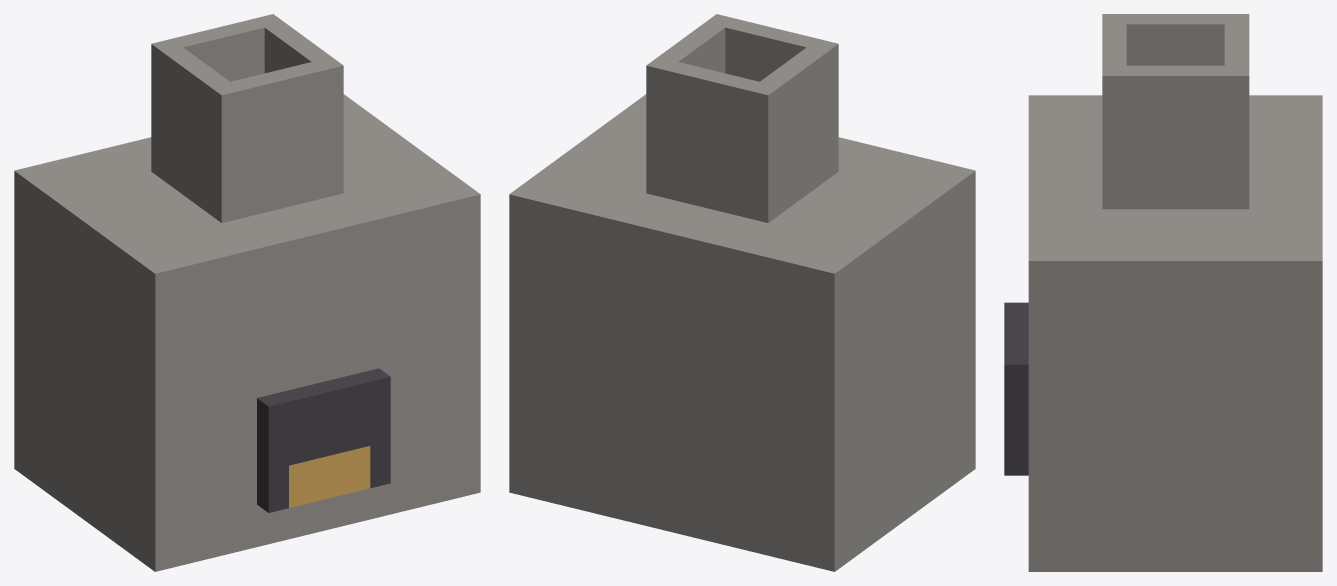
File: fourneau.glb
3 renders of one model, left to right at view 1: azimuth 30°, elevation 25°; view 2: azimuth 150°, elevation 25°; view 3: azimuth 270°, elevation 25°, orthographic. The views are drawn at different scales.
Visible parts, largest first — view 1: geometry_0; view 2: geometry_0; view 3: geometry_0.
Boxes of the visible parts, x1,y1,x2,y2 form: geometry_0: (14,14,480,571); geometry_0: (509,14,975,571); geometry_0: (1004,14,1322,571).
Size of the model in its own units: 2 by 2.5 by 1.62.
